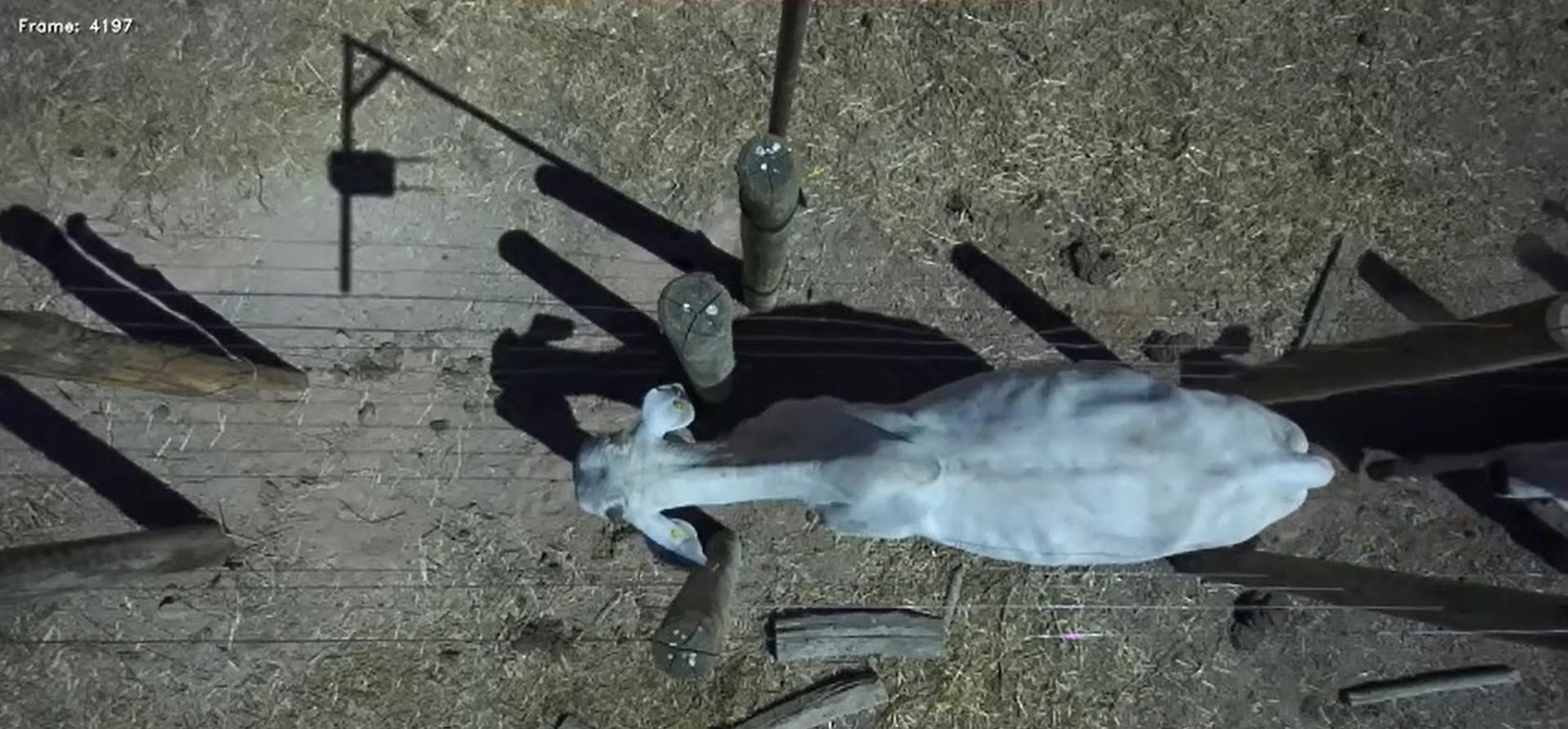cattle: (571, 361, 1336, 571)
